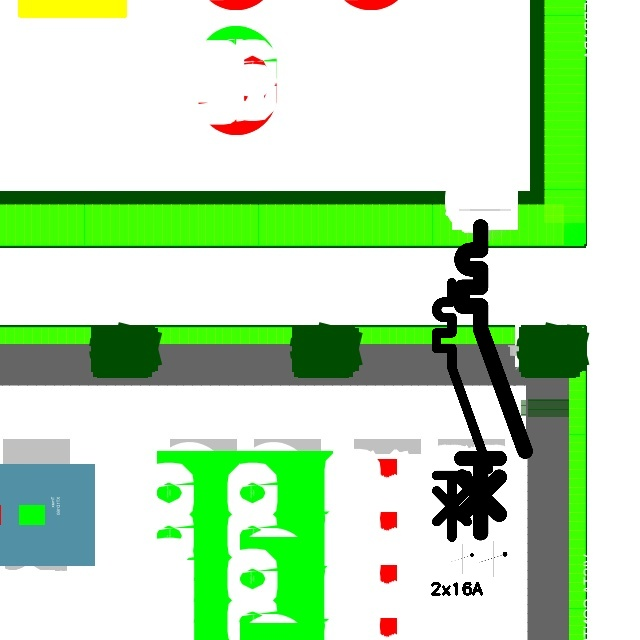interruptor_termomagnetico: (454, 219, 532, 540), (430, 276, 495, 544)
